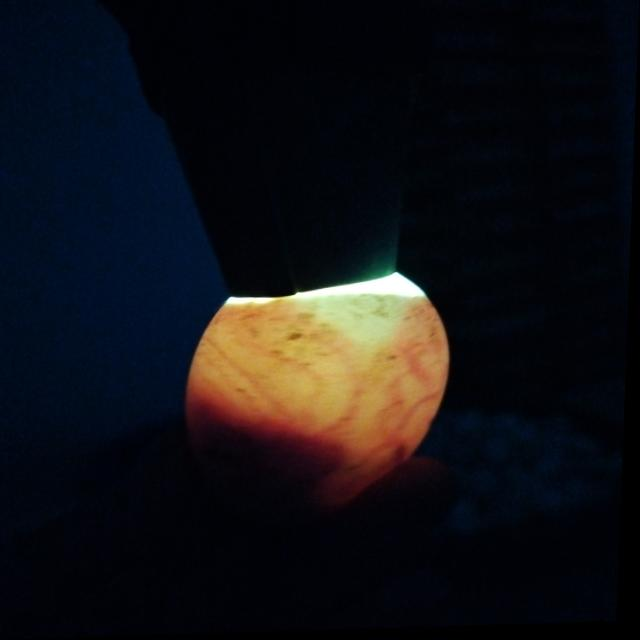Embriao: (183, 394, 344, 526)
